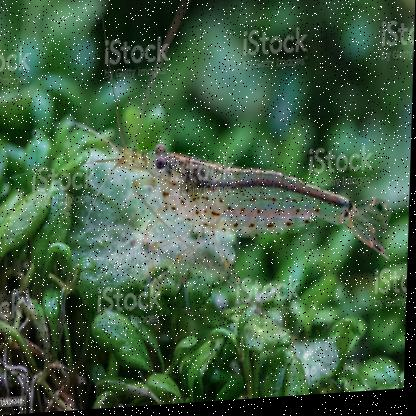shrimp: (116, 132, 399, 283)
